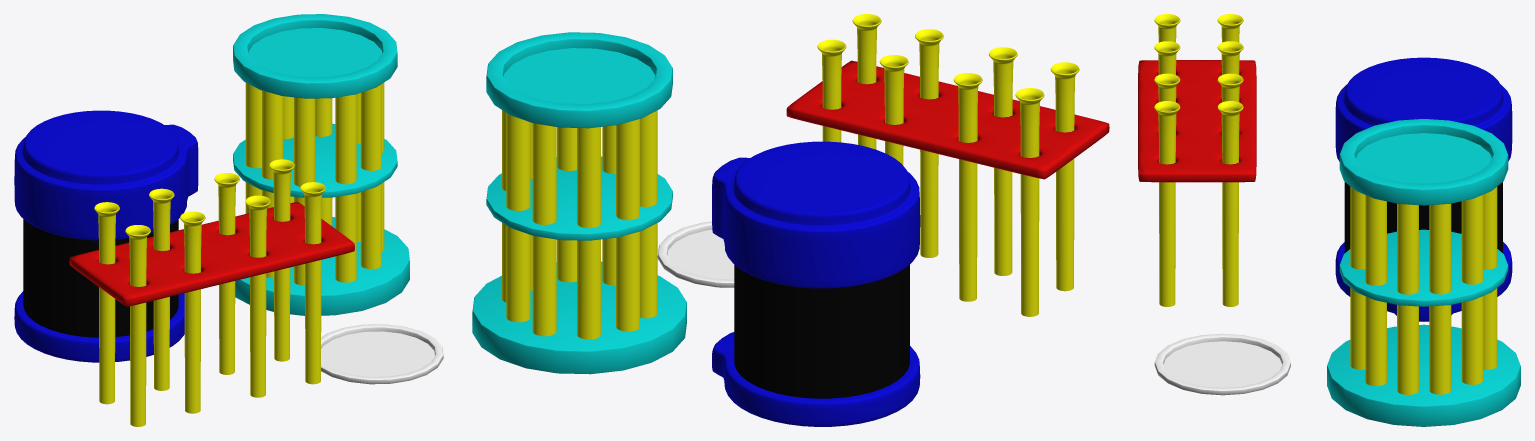
The model's file is Laboratory_Equipment.fbx.
3 views of the same model, side by side, from view 1: azimuth 30°, elevation 25°; view 2: azimuth 150°, elevation 25°; view 3: azimuth 270°, elevation 25° (orthographic). The views are drawn at different scales.
Visible parts, largest first — view 1: Equipment_3, Equipment_4, Equipment_1, Equipment_2; view 2: Equipment_3, Equipment_1, Equipment_4, Equipment_2; view 3: Equipment_3, Equipment_4, Equipment_1, Equipment_2.
Part boxes in pixels (x1,y1,x2,y2): Equipment_3: (233,14,409,315); Equipment_4: (69,159,354,426); Equipment_1: (14,110,198,362); Equipment_2: (321,324,443,384); Equipment_3: (472,32,686,374); Equipment_1: (712,141,920,426); Equipment_4: (786,14,1109,316); Equipment_2: (657,221,734,287); Equipment_3: (1327,119,1520,426); Equipment_4: (1138,14,1256,306); Equipment_1: (1335,57,1512,321); Equipment_2: (1154,333,1290,395).
Size of the model in its own units: 41.51 by 21.99 by 32.82.
